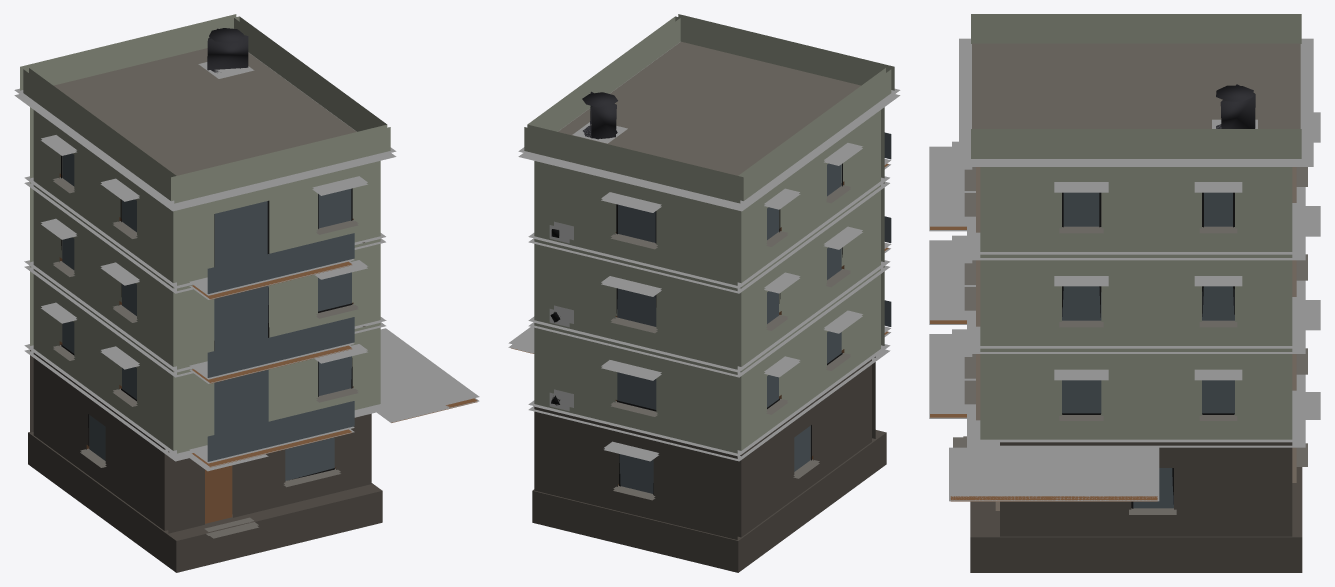
File: city_house_8x10_4_far.glb
The picture shows the model from 3 angles, left to right: view 1: azimuth 30°, elevation 25°; view 2: azimuth 150°, elevation 25°; view 3: azimuth 270°, elevation 25°; orthographic projection. The views are drawn at different scales.
Visible parts, largest first — view 1: city_house_8x10_4; view 2: city_house_8x10_4; view 3: city_house_8x10_4.
Part boxes in pixels (x1=…): city_house_8x10_4: x1=14, y1=14, x2=479, y2=572; city_house_8x10_4: x1=508, y1=14, x2=900, y2=572; city_house_8x10_4: x1=929, y1=14, x2=1320, y2=572.
Bounding box in the file's own units: 12.11 × 15.4 × 11.91.
